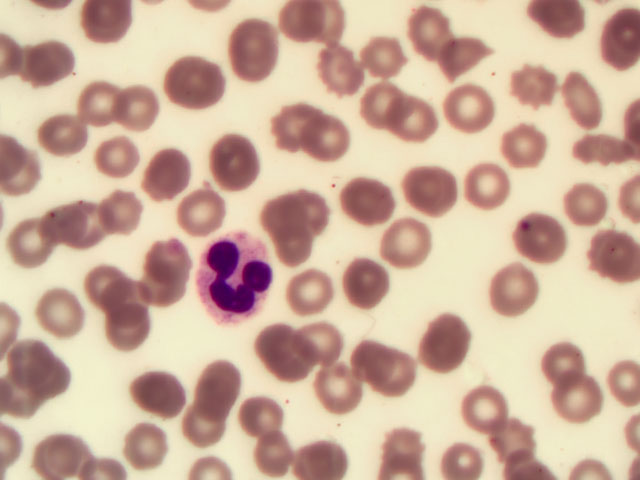RBC: (21, 33, 78, 91), (71, 78, 128, 136), (33, 107, 90, 165), (103, 82, 160, 140), (166, 54, 223, 112), (225, 20, 282, 78), (314, 45, 371, 103), (355, 24, 412, 82), (398, 2, 455, 60), (436, 30, 493, 88), (442, 76, 499, 134), (506, 58, 563, 116), (547, 65, 604, 123), (583, 12, 640, 70), (572, 118, 629, 176), (497, 123, 554, 181), (454, 156, 511, 214), (406, 161, 463, 219), (398, 96, 455, 154), (355, 80, 412, 138), (305, 116, 362, 174), (265, 105, 322, 163), (217, 129, 274, 187), (138, 144, 195, 202), (93, 138, 150, 196), (102, 187, 159, 245), (56, 200, 113, 258), (15, 216, 72, 274), (35, 288, 92, 346), (73, 269, 130, 327), (100, 277, 157, 335), (104, 305, 161, 363), (142, 232, 199, 290), (16, 344, 73, 402), (144, 365, 201, 423), (125, 422, 182, 480), (35, 422, 92, 480), (173, 398, 230, 456), (193, 360, 250, 418), (232, 381, 289, 439), (246, 419, 303, 477), (293, 422, 350, 480), (305, 364, 362, 422), (299, 312, 356, 370), (259, 326, 316, 384), (286, 267, 343, 325), (347, 251, 404, 309), (275, 224, 332, 282), (264, 193, 321, 251), (180, 183, 237, 241), (338, 178, 395, 236), (371, 214, 428, 272), (481, 253, 538, 311), (422, 315, 479, 373), (514, 210, 571, 268), (556, 176, 613, 234), (583, 236, 640, 294), (532, 333, 589, 391), (562, 372, 619, 430), (459, 386, 516, 444), (359, 342, 416, 400), (377, 422, 434, 480), (441, 422, 498, 480), (497, 422, 554, 480), (277, 1, 334, 58), (529, 1, 586, 58)
WBC: (197, 236, 275, 326)
